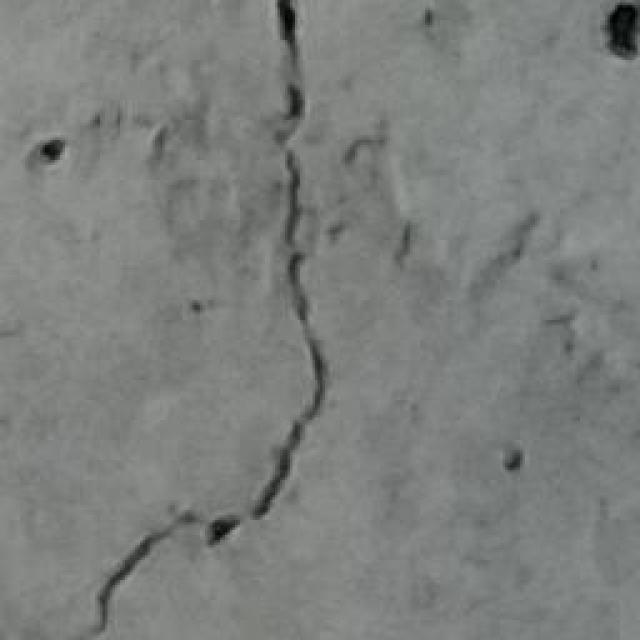Longitudinal: (76, 6, 363, 640)
